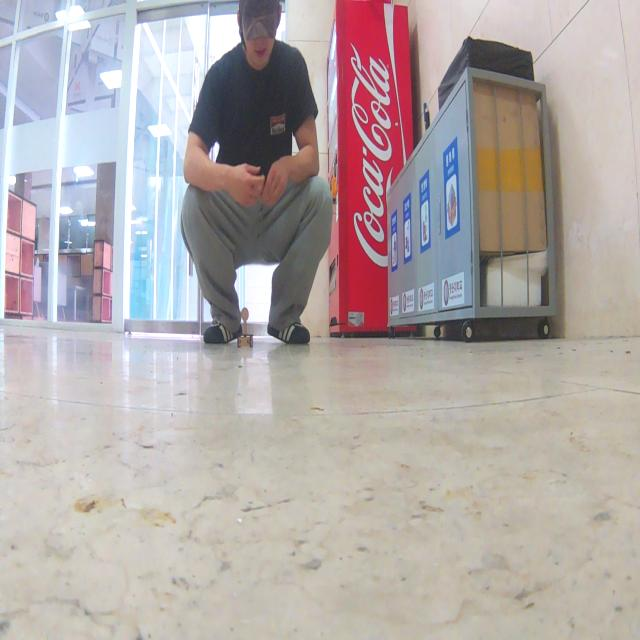target: (237, 306, 253, 348)
